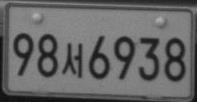3: (138, 37, 160, 81)
6: (87, 34, 110, 79)
8: (163, 36, 186, 82), (36, 33, 58, 77)
9: (113, 35, 136, 79), (12, 32, 33, 75)
서: (61, 42, 83, 78)
